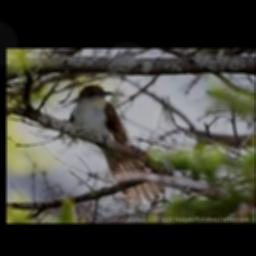Cuckoo: (69, 84, 165, 203)
